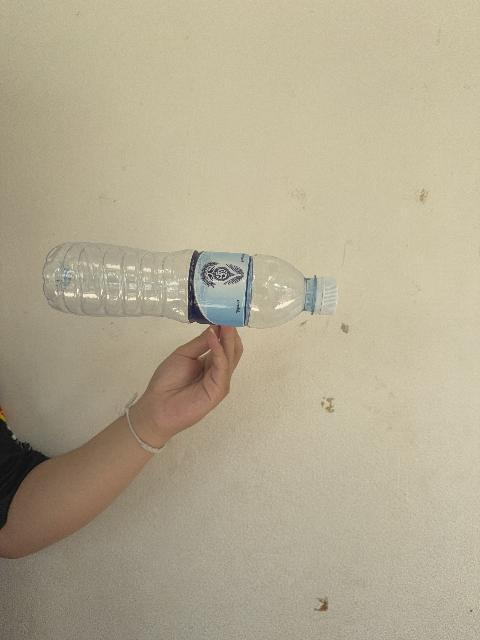bottle: (43, 243, 336, 328)
